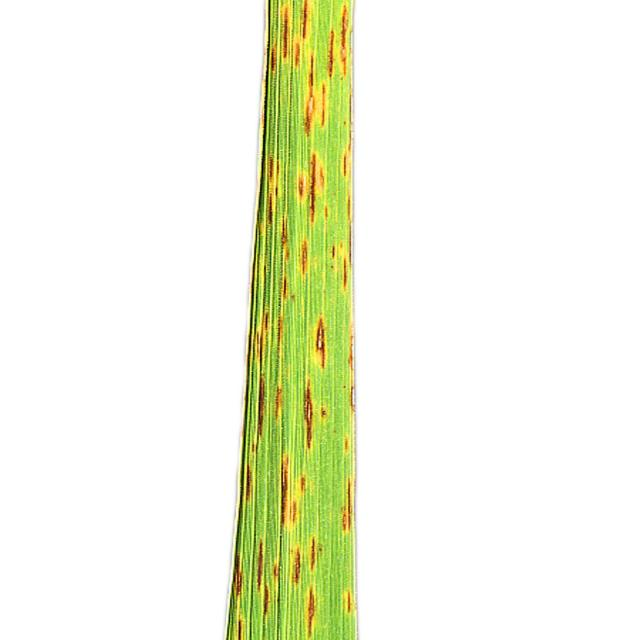Narrow brown: (218, 0, 406, 640)
